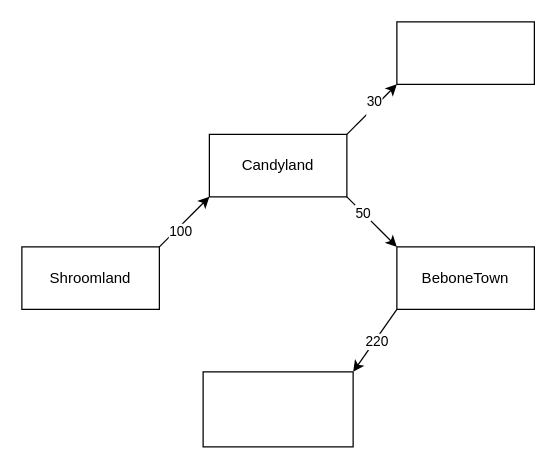
The diagram is 556 pixels wide and 469 high, and some of its shapes have lost their labels. Here are the shapes that lost their labels. From the top down, the centre of each, then its label:
At (x=465, y=52): "Berryville".
At (x=277, y=409): "Jingleburg".
